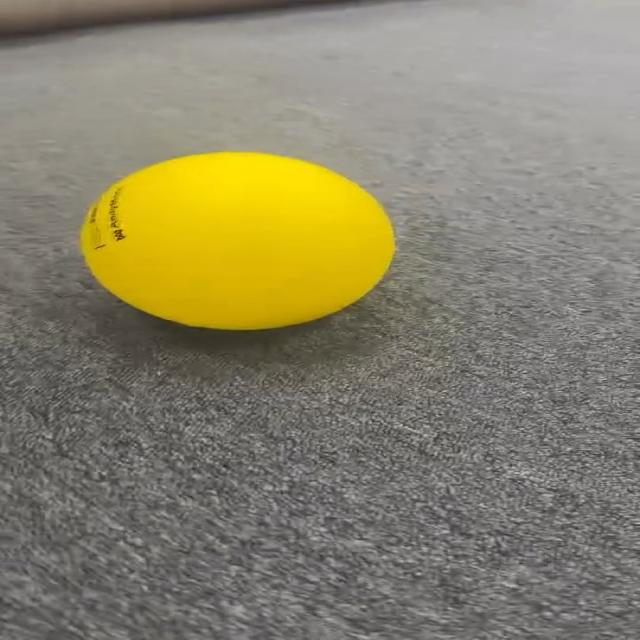Fuels: (82, 154, 392, 326)
